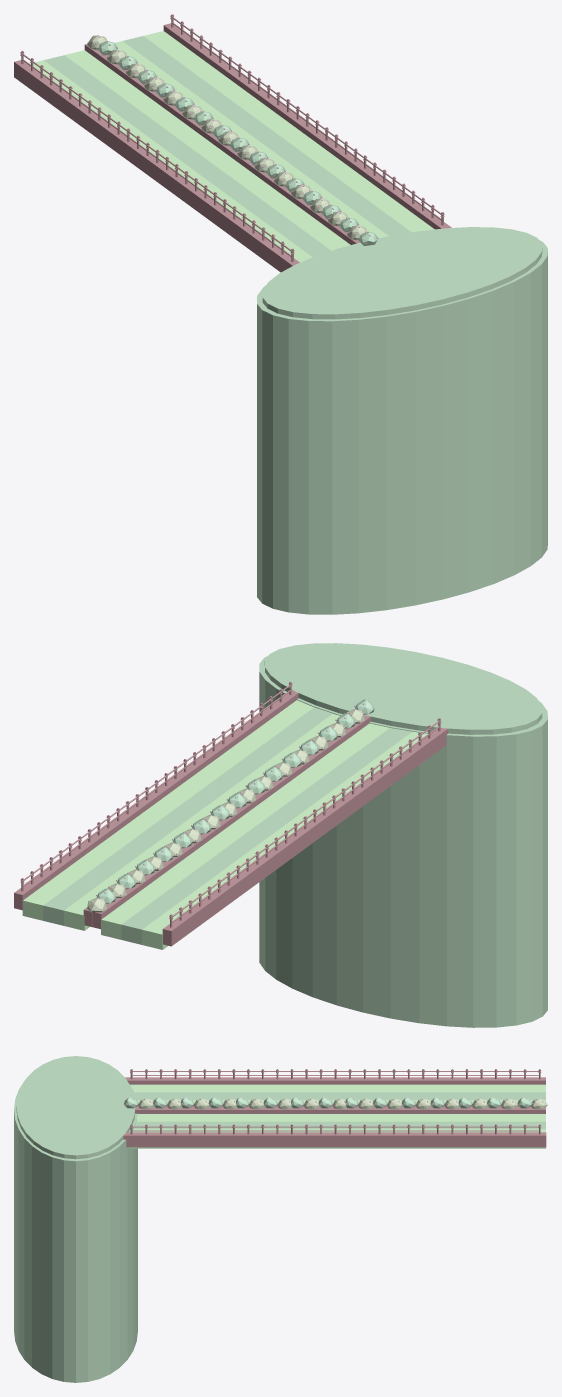
The picture shows the model from 3 angles, top to bottom: view 1: azimuth 30°, elevation 25°; view 2: azimuth 150°, elevation 25°; view 3: azimuth 270°, elevation 25°; orthographic projection. The views are drawn at different scales.
Visible parts, largest first — view 1: Cylinder, yol, Cube, Cylinder.001, Bush01.001, Bush03.001; view 2: Cylinder, yol, Cube, Cylinder.001, Bush03.001, Bush01.001; view 3: Cylinder, yol, Cube, Cylinder.001, Bush01.001, Bush03.001.
Boxes of the visible parts, x1,y1,x2,y2 form: Cylinder: [257, 227, 547, 614]; yol: [30, 31, 434, 262]; Cube: [14, 23, 451, 272]; Cylinder.001: [20, 14, 444, 261]; Bush01.001: [87, 35, 367, 239]; Bush03.001: [98, 41, 377, 245]; Cylinder: [259, 643, 547, 1027]; yol: [22, 700, 427, 949]; Cube: [14, 689, 448, 946]; Cylinder.001: [20, 681, 441, 927]; Bush03.001: [96, 699, 374, 903]; Bush01.001: [87, 709, 364, 912]; Cylinder: [14, 1056, 137, 1382]; yol: [128, 1084, 545, 1148]; Cube: [123, 1077, 546, 1147]; Cylinder.001: [130, 1069, 541, 1134]; Bush01.001: [138, 1099, 547, 1109]; Bush03.001: [124, 1097, 532, 1108].
Size of the model in its own units: 11266 by 11939 by 24593.
